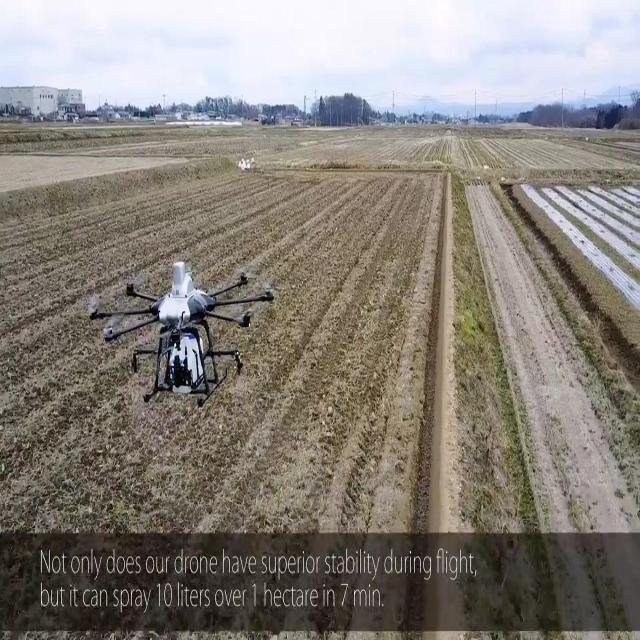drone: (89, 256, 275, 406)
